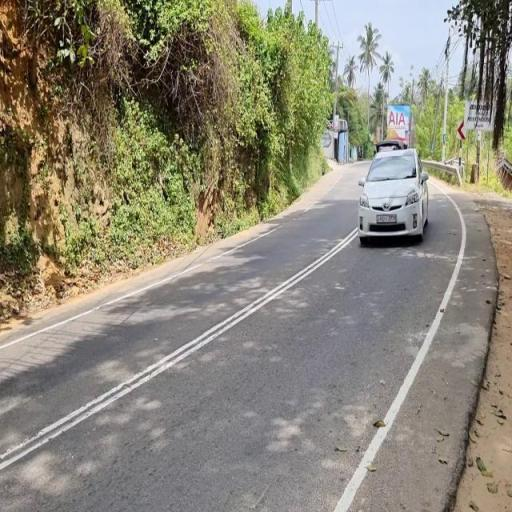double_white_line: (0, 222, 369, 470)
